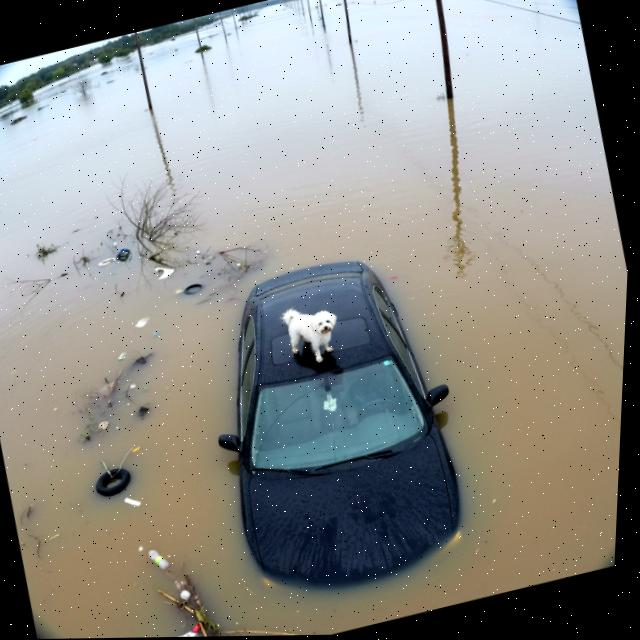dog: (271, 289, 353, 374)
